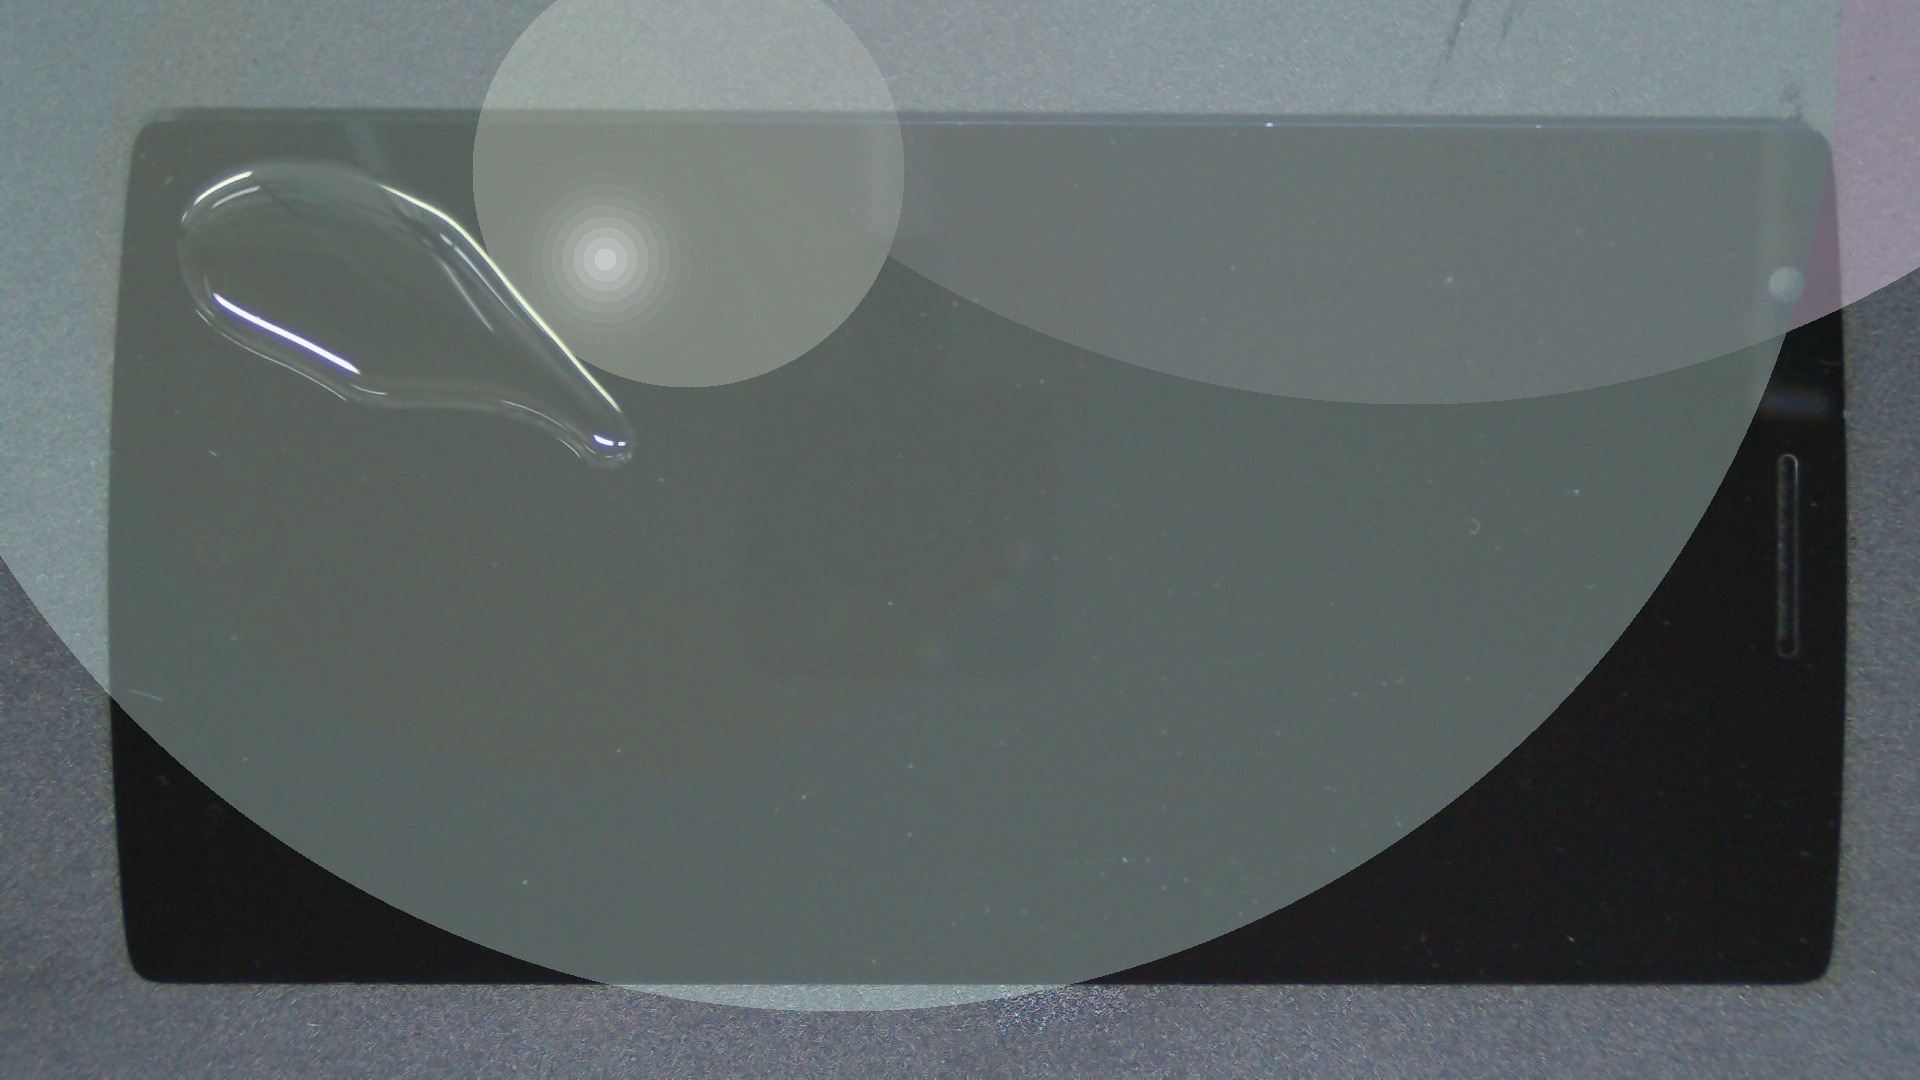oil: (145, 79, 434, 239)
